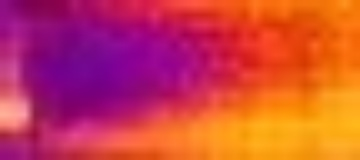Shadow: (21, 21, 208, 126)
